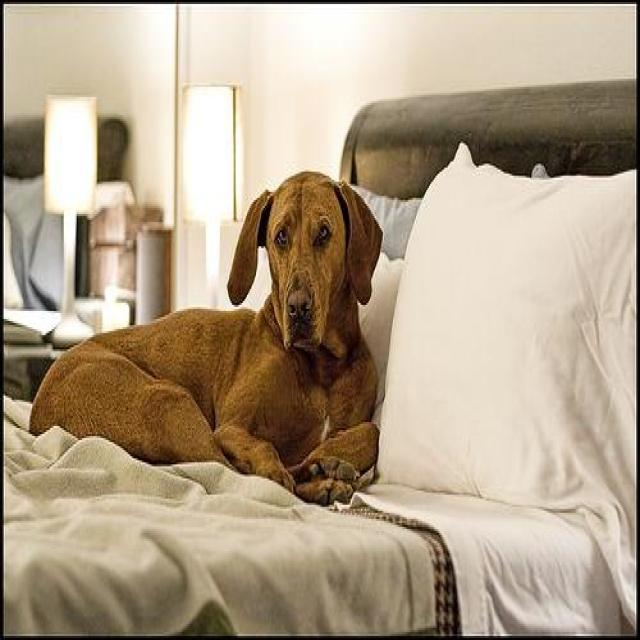rhodesian_ridgeback: (31, 170, 384, 502)
